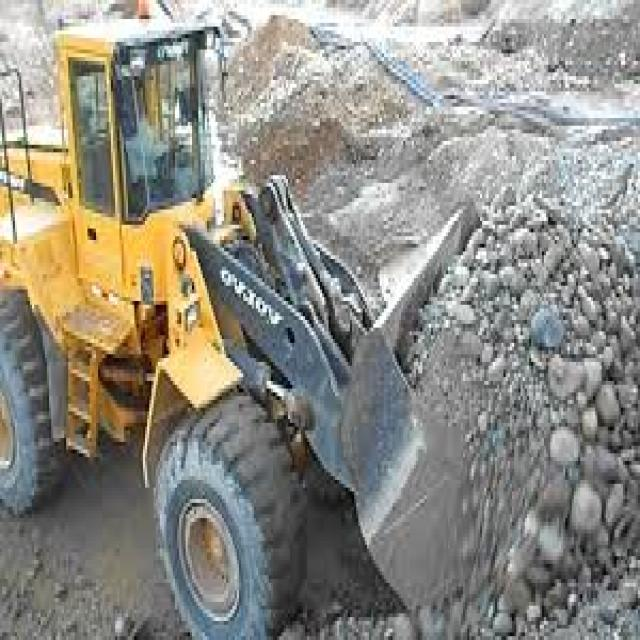bull_dozer/loader/grader: (7, 14, 355, 640)
